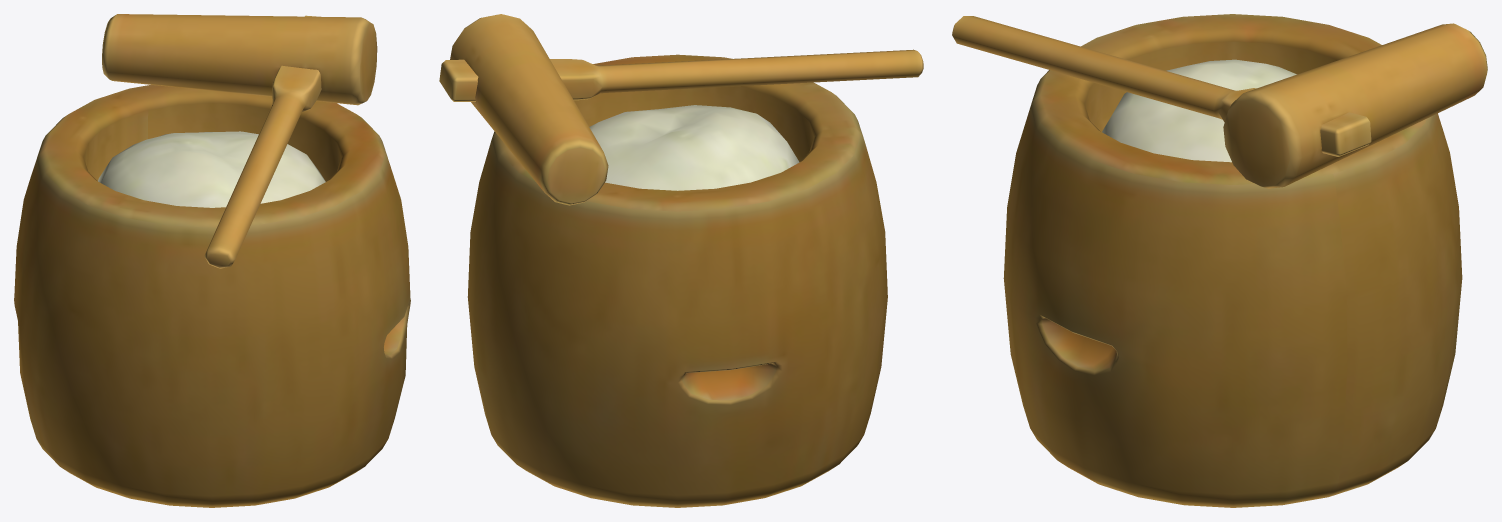
3 renders of one model, left to right at view 1: azimuth 30°, elevation 25°; view 2: azimuth 150°, elevation 25°; view 3: azimuth 270°, elevation 25°, orthographic. The views are drawn at different scales.
Size of the model in its own units: 7.08 by 6.88 by 7.88.
1 material, 1 textured.
